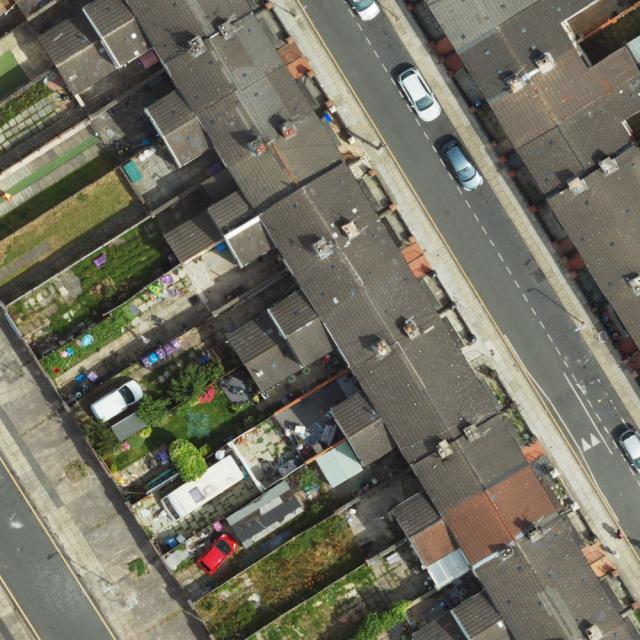roof: (35, 0, 640, 640), (425, 0, 640, 358)
